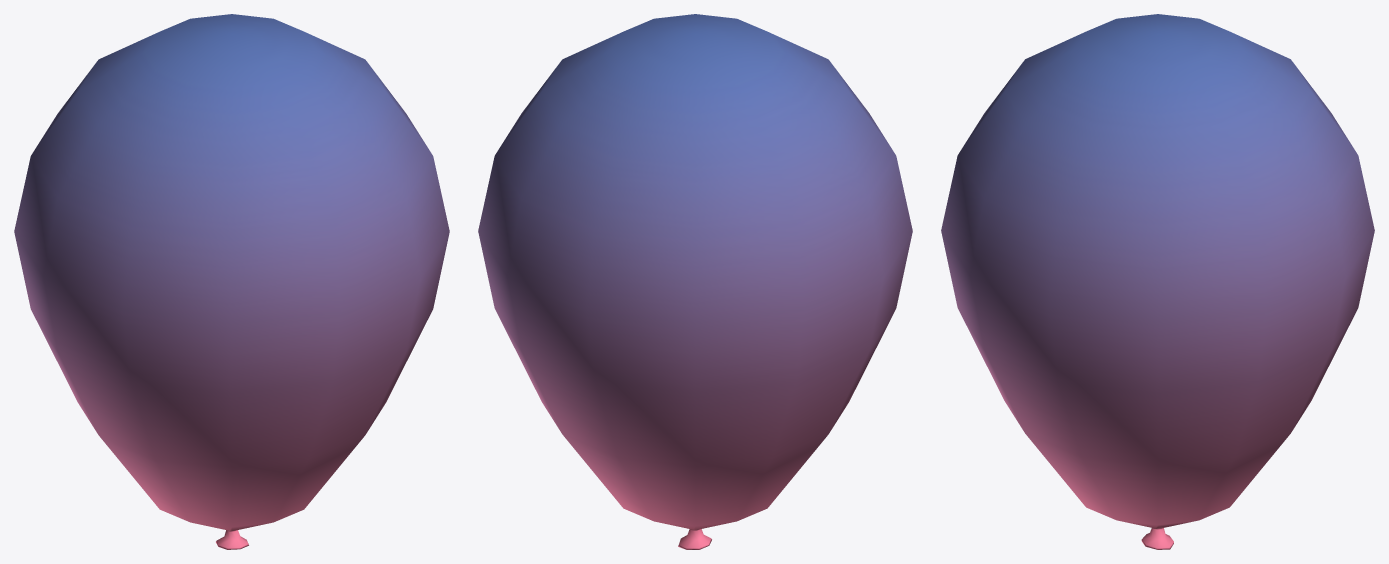
File: SM_balloon_blue_red.fbx
3 renders of one model, left to right at view 1: azimuth 30°, elevation 25°; view 2: azimuth 150°, elevation 25°; view 3: azimuth 270°, elevation 25°, orthographic.
Visible parts, largest first — view 1: Cube.026; view 2: Cube.026; view 3: Cube.026.
Part boxes in pixels (<box>): Cube.026: <box>14,14,449,549</box>; Cube.026: <box>478,14,912,549</box>; Cube.026: <box>941,14,1374,549</box>.
Bounding box in the file's own units: 121 × 157 × 121.
